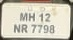character: (13, 23, 21, 34), (21, 23, 28, 34), (19, 12, 27, 21), (28, 12, 35, 22), (44, 13, 51, 23), (30, 23, 37, 33), (42, 24, 49, 34), (37, 23, 43, 34), (49, 24, 55, 34), (39, 12, 44, 23)
